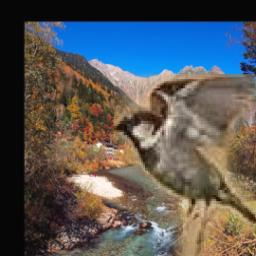Sparrow: (115, 74, 256, 256)
